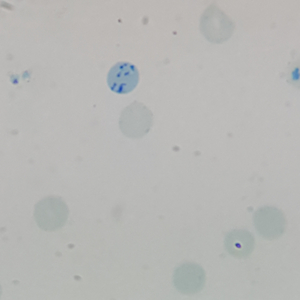aggregate reticulocyte: (105, 60, 141, 96)
erythrocyte: (197, 1, 236, 45), (32, 195, 71, 233), (250, 204, 288, 242), (170, 261, 206, 296), (222, 227, 257, 259)
punctate reticulocyte: (116, 99, 153, 141)
